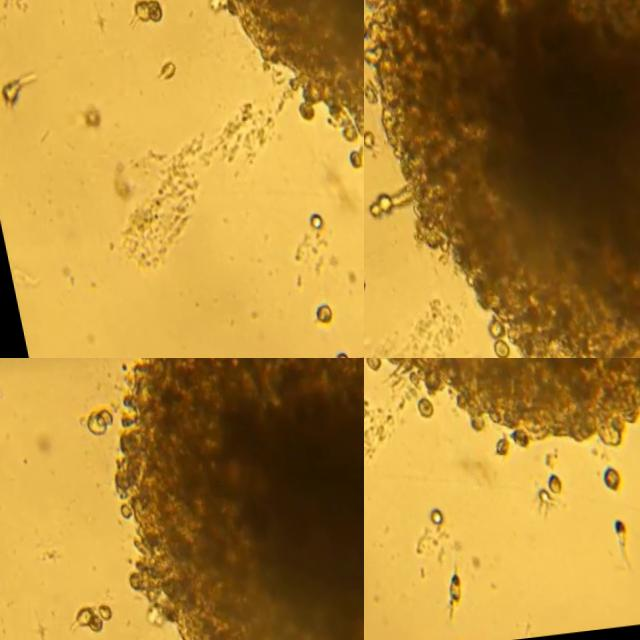cell: (0, 72, 29, 101), (70, 107, 94, 132), (82, 415, 103, 436), (65, 606, 85, 626), (435, 573, 448, 602), (301, 303, 319, 323), (591, 470, 609, 490), (406, 395, 423, 416), (338, 148, 353, 168), (139, 0, 154, 20), (417, 506, 432, 525), (601, 519, 614, 540), (151, 60, 165, 79), (93, 410, 109, 426), (90, 603, 105, 619), (298, 212, 310, 231), (127, 5, 142, 20), (484, 440, 498, 455), (526, 489, 539, 505), (536, 477, 549, 493), (82, 613, 94, 630), (321, 352, 337, 358), (364, 358, 372, 368)
tumor_mass: (110, 358, 364, 640), (373, 358, 640, 449)
